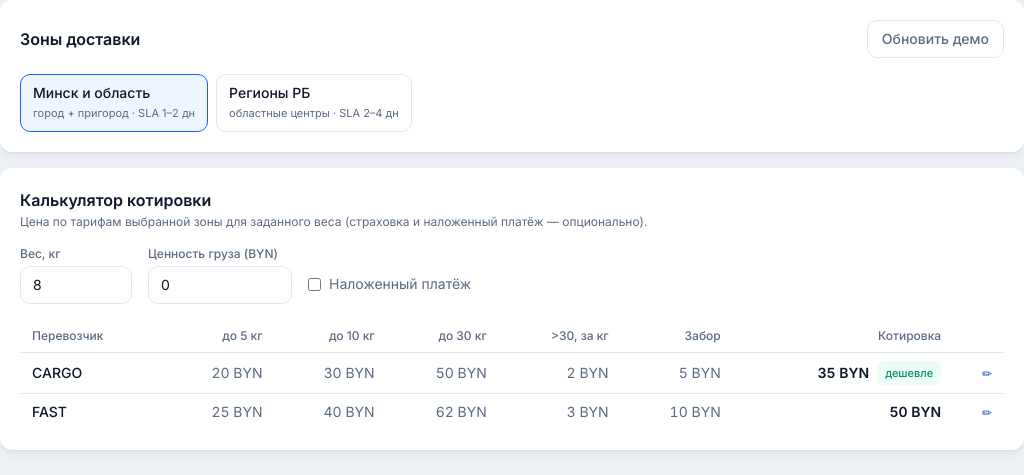
Test: LogisticsTariffs › отмена правки возвращает форматированные значения без patchTariff
Expected: the text "CARGO" is shown, [20,352,162,394]
Click the button "✏" in the row of "CARGO" at coordinates (987, 374), box [982,366,992,382]
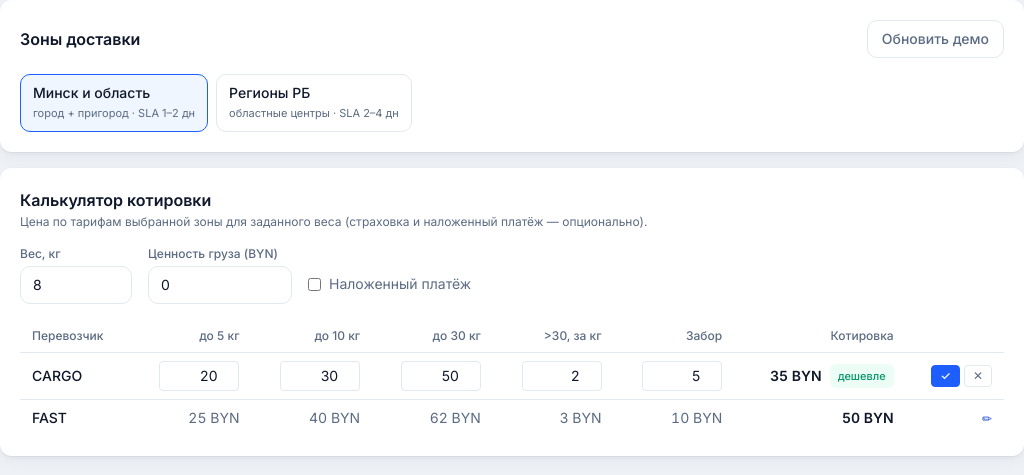
Expected: the 3rd number field is shown, [160,361,240,391]
Click the button "✕" at coordinates (978, 376), box [964,365,992,387]
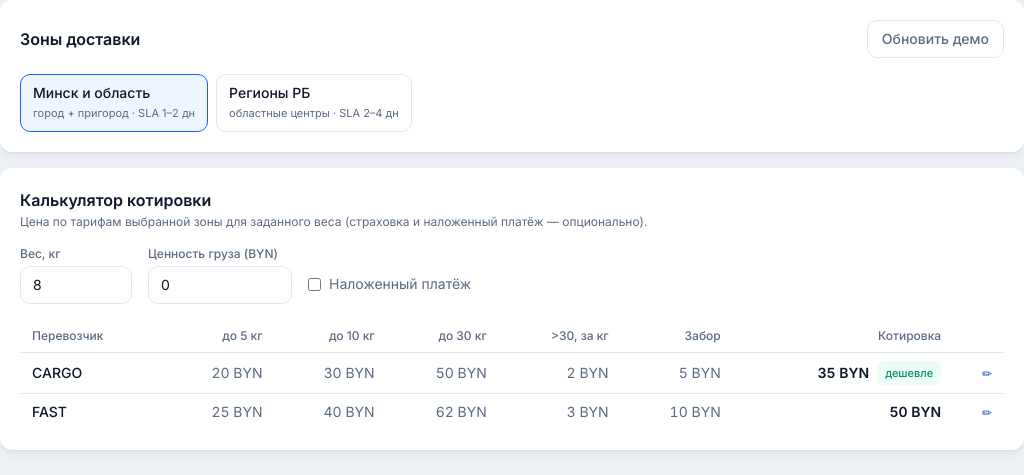
Expected: the button "✏" in the row of "CARGO" is shown, [982,366,992,382]
